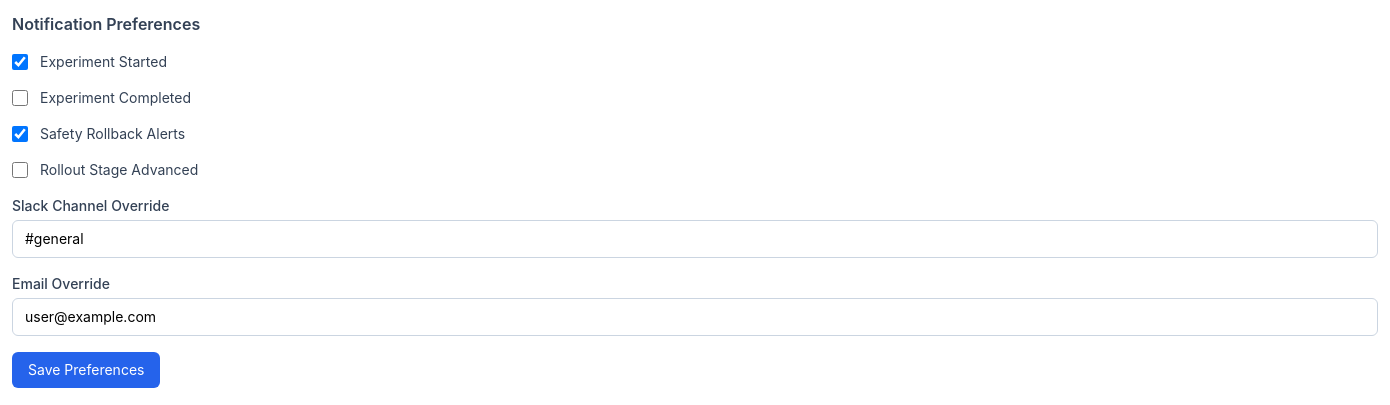
Test: NotificationPrefsForm › form_shows_saved_confirmation
The image size is (1390, 405).
Click the button with test id "save-prefs-btn" at (86, 370), box x1=12 y1=352 x2=160 y2=388
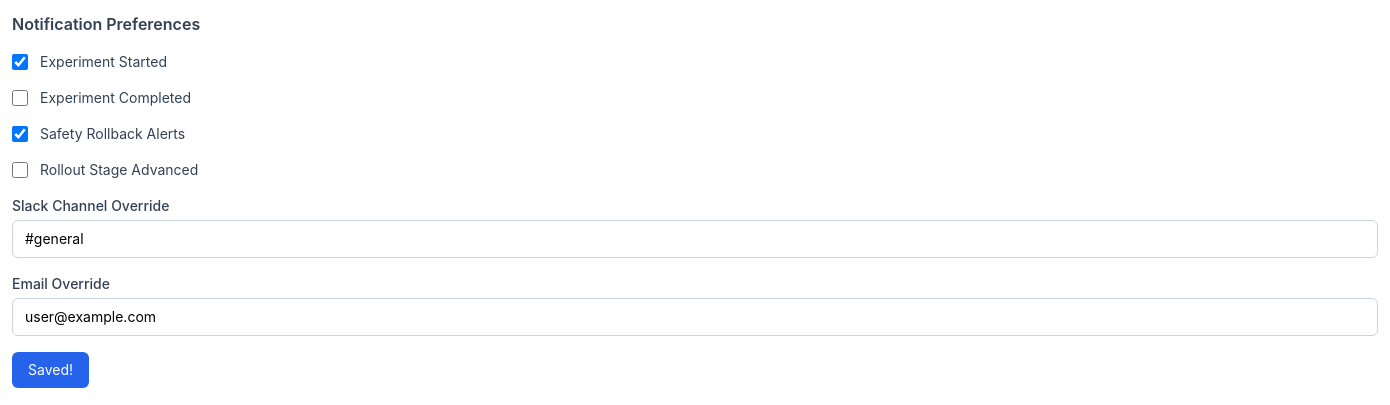
Result: the button with test id "save-prefs-btn" reads "Saved!" at x1=12 y1=352 x2=89 y2=388
